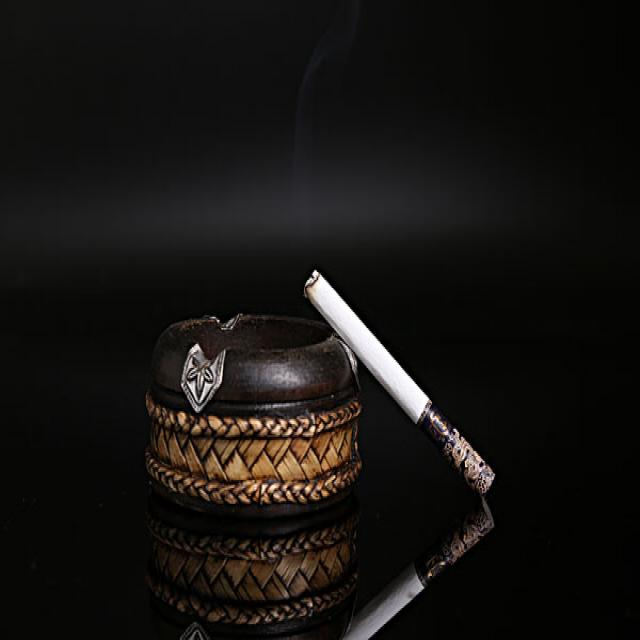smoking: (301, 269, 495, 493), (343, 500, 499, 638)
